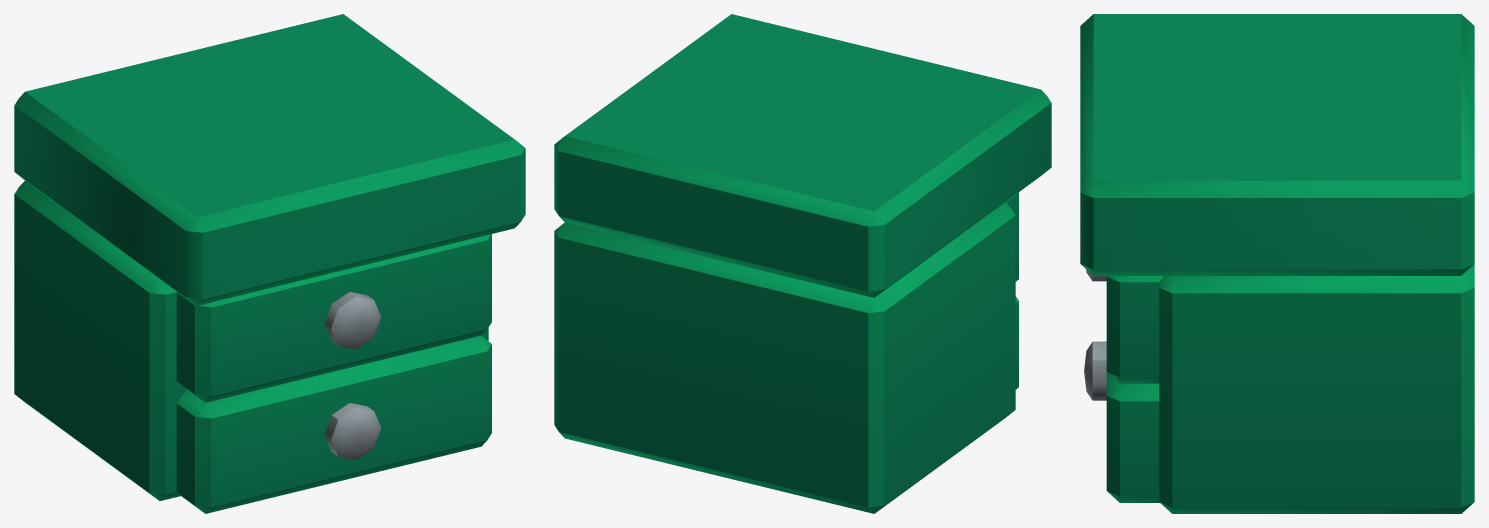
The model's file is Drawers.obj.
3 renders of one model, left to right at view 1: azimuth 30°, elevation 25°; view 2: azimuth 150°, elevation 25°; view 3: azimuth 270°, elevation 25°, orthographic. The views are drawn at different scales.
Parts seen in each view (by area): view 1: Drawers; view 2: Drawers; view 3: Drawers.
Part boxes in pixels (x1,y1,x2,y2): Drawers: (14,14,525,513); Drawers: (554,14,1051,513); Drawers: (1080,14,1474,513).
Bounding box in the file's own units: 0.8 × 0.7 × 0.75.
1 material, 1 textured.
